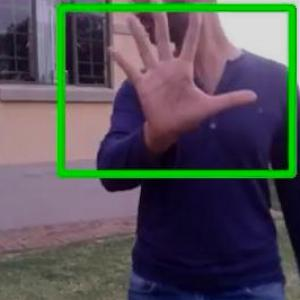follow_hand: (102, 0, 262, 139)
